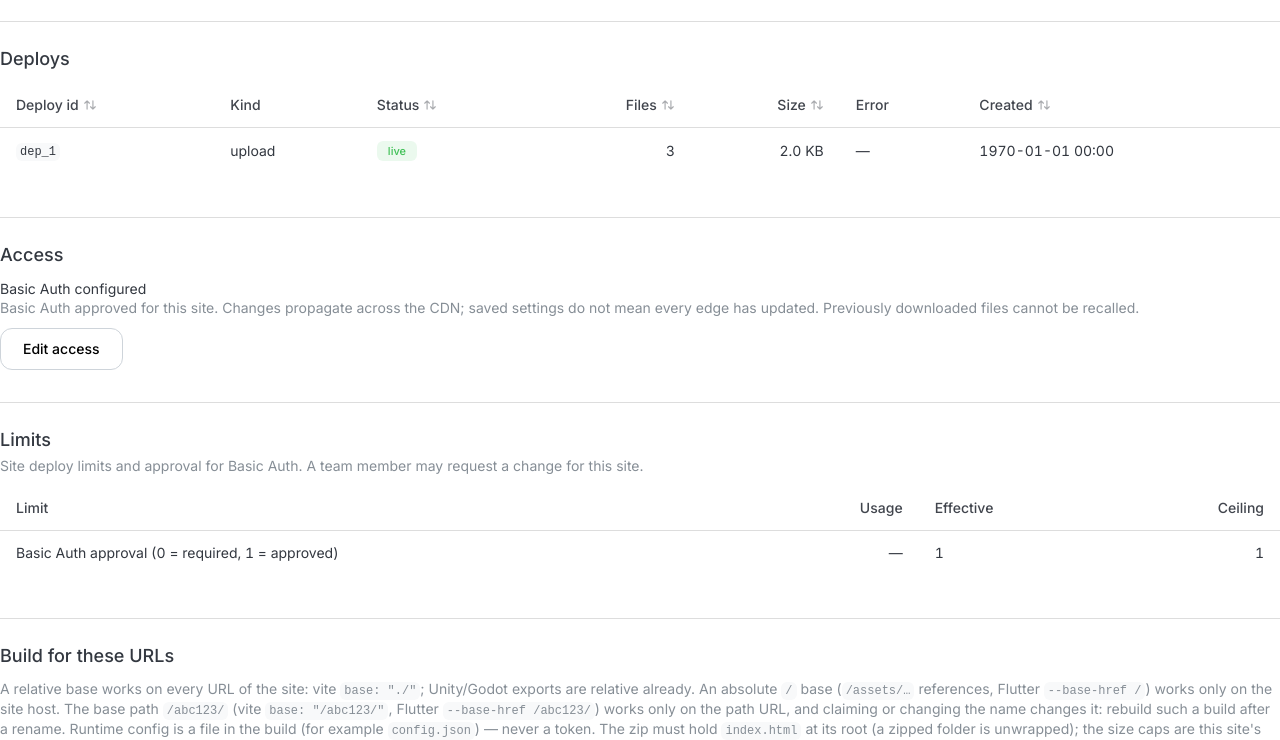
Scenario: SitePage › explains propagation after switching to Public (pending)
(page scrolled)
Click the button "Edit access" at (61,349), box x1=0 y1=328 x2=122 y2=370
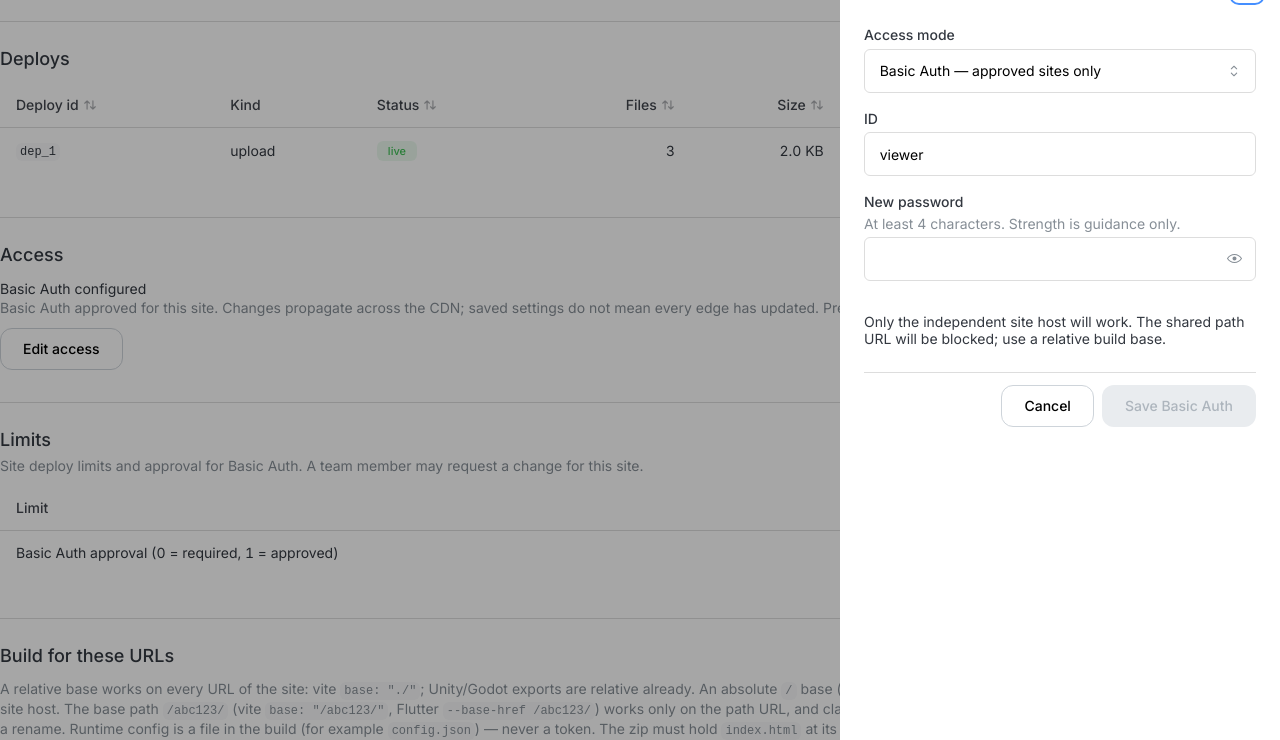
Select "Public — anyone can view" in the dropdown labelled "Access mode" at (1060,71), box x1=864 y1=49 x2=1256 y2=93
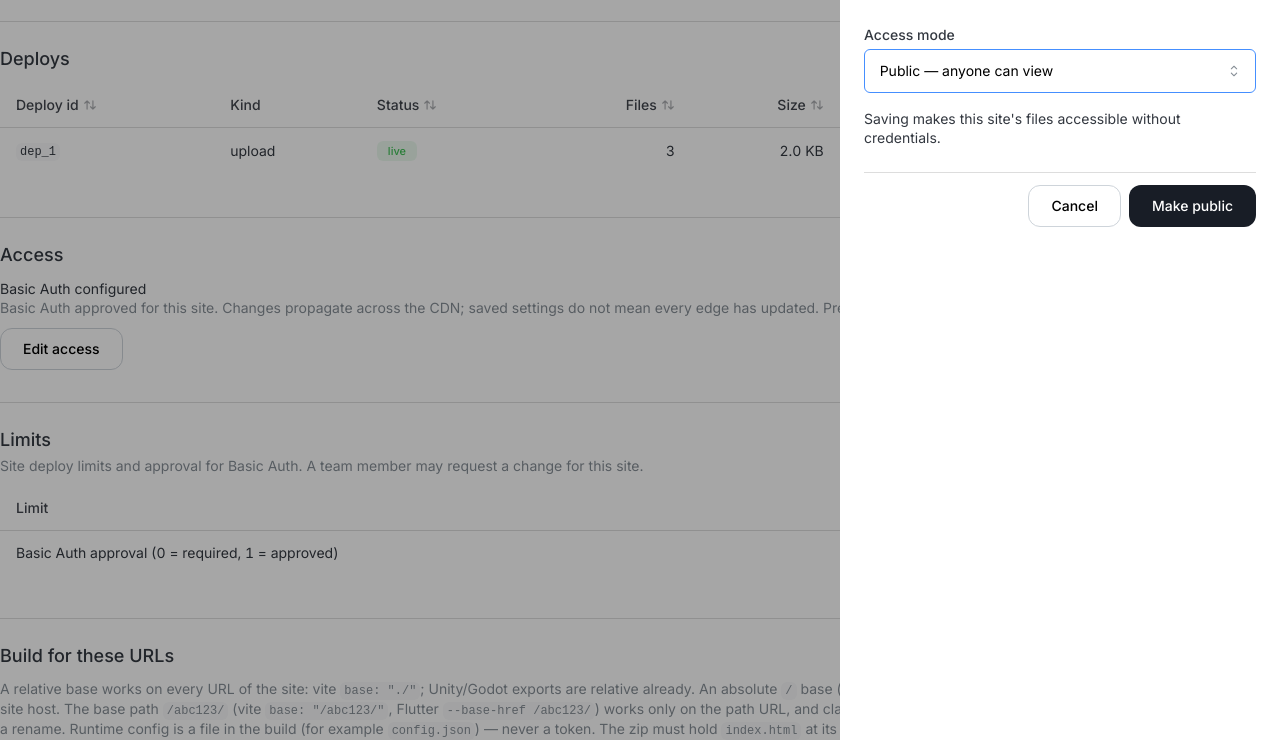
Click the button "Make public" at (1192,206), box x1=1129 y1=185 x2=1256 y2=227
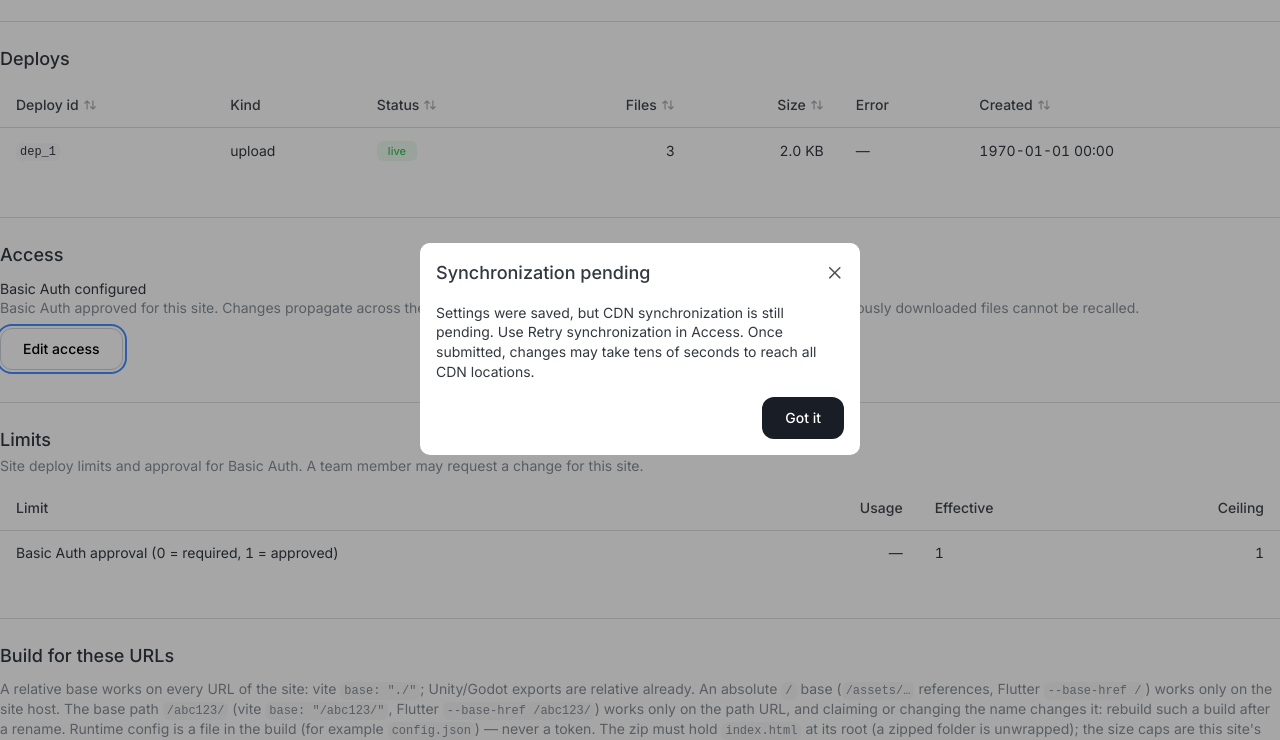
Result: the text "Use Retry synchronization" is shown at x1=436 y1=304 x2=816 y2=380
Click the button named "Close access notice" at (835,273), box x1=821 y1=259 x2=849 y2=287
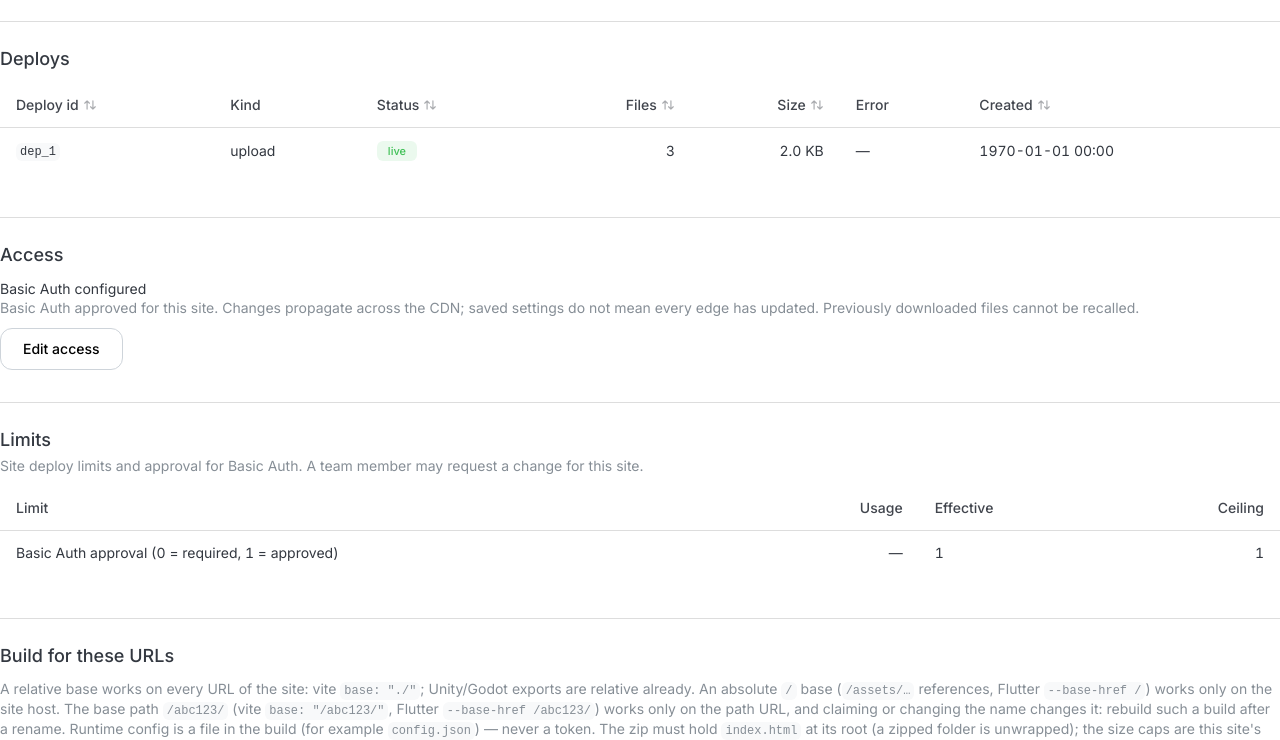
Result: the heading "Synchronization pending" is gone
